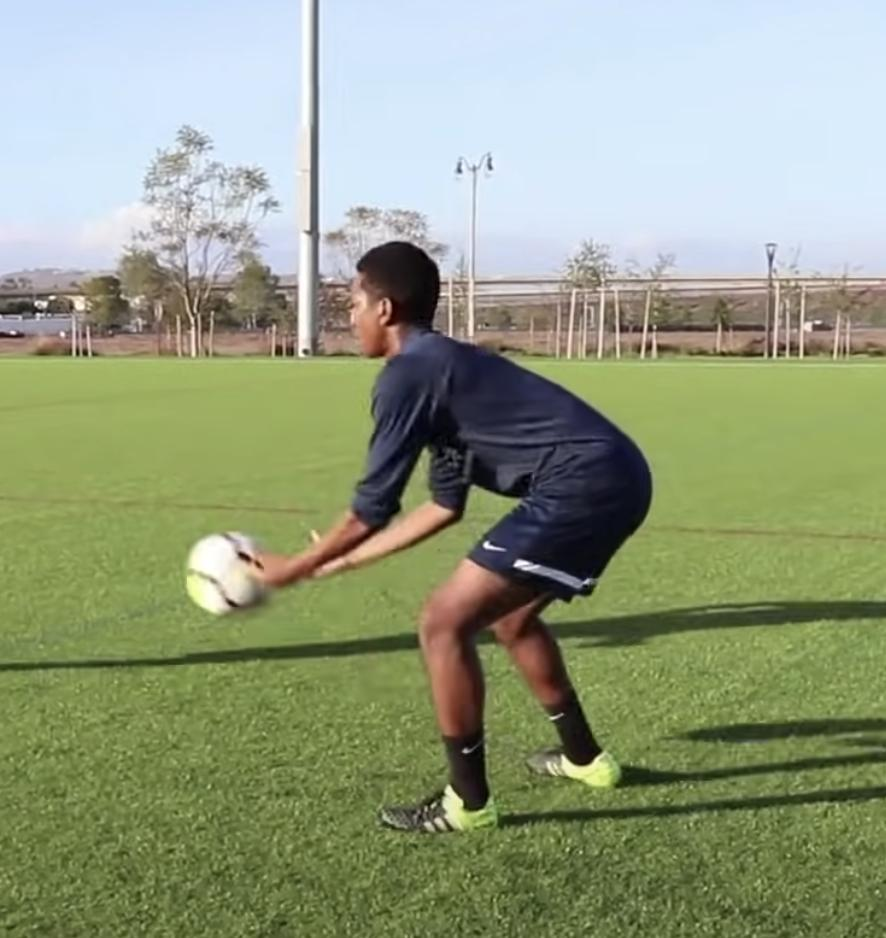ball: (186, 533, 267, 614)
foot: (378, 784, 498, 833), (525, 745, 620, 788)
person: (252, 242, 654, 831)
